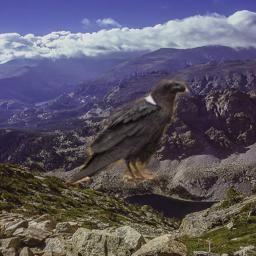Crow: (63, 78, 190, 190)
